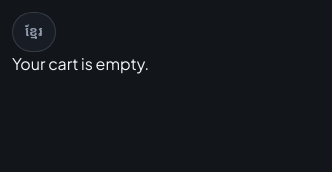
it: switches the whole page between English and Khmer
Check: the text "Your cart is empty." is shown, box [12, 53, 149, 74]
Click the button named "Switch language to Khmer": [34, 32] box [12, 12, 56, 52]
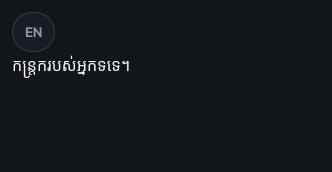
Check: the text "កន្ត្រករបស់អ្នកទទេ។" is shown, box [12, 54, 130, 75]
Click the button with aria-label "ប្តូរភាសាទៅជាអង់គ្លេស": [34, 32] box [12, 12, 55, 52]
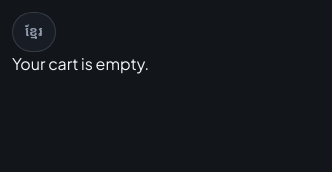
Check: the text "Your cart is empty." is shown, box [12, 53, 149, 74]
